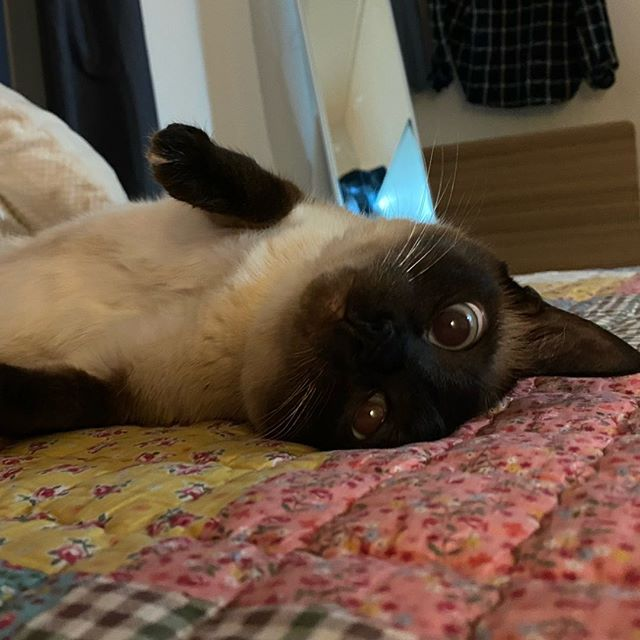cat: (256, 209, 640, 462)
